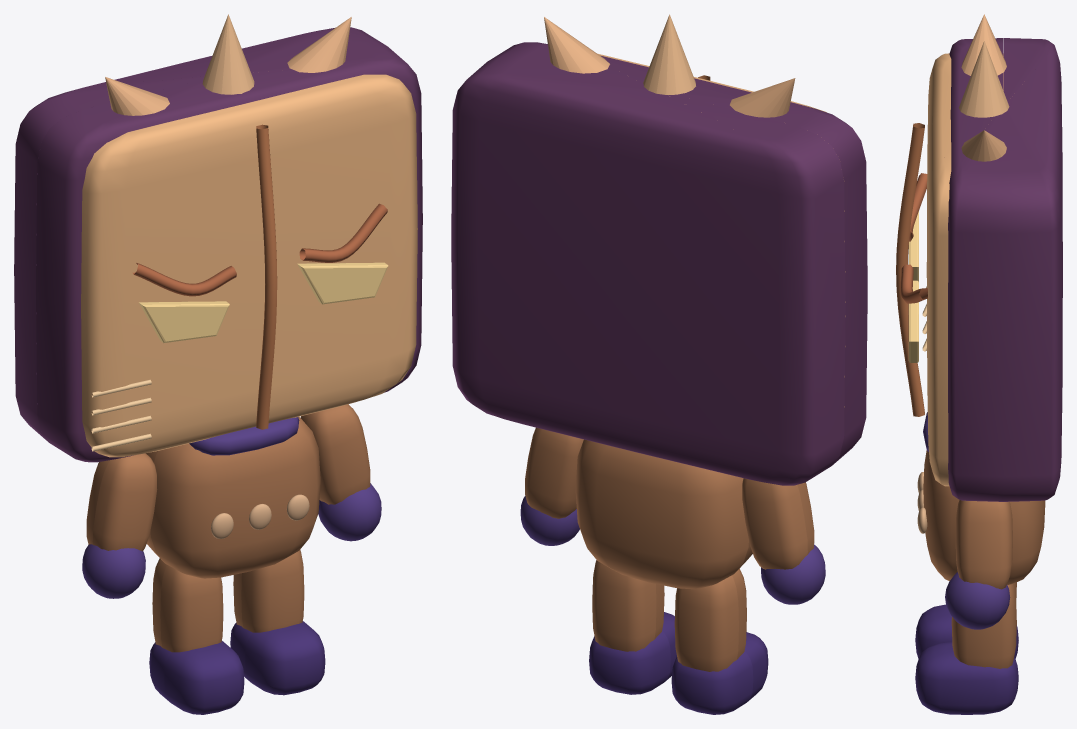
The picture shows the model from 3 angles, left to right: view 1: azimuth 30°, elevation 25°; view 2: azimuth 150°, elevation 25°; view 3: azimuth 270°, elevation 25°; orthographic projection. The views are drawn at different scales.
Parts seen in each view (by area): view 1: 북 몬스터; view 2: 북 몬스터; view 3: 북 몬스터.
Part boxes in pixels (x1,y1,x2,y2): 북 몬스터: [14, 14, 422, 714]; 북 몬스터: [451, 14, 867, 714]; 북 몬스터: [896, 14, 1062, 714].
Size of the model in its own units: 1.1 by 1.94 by 0.4526.
